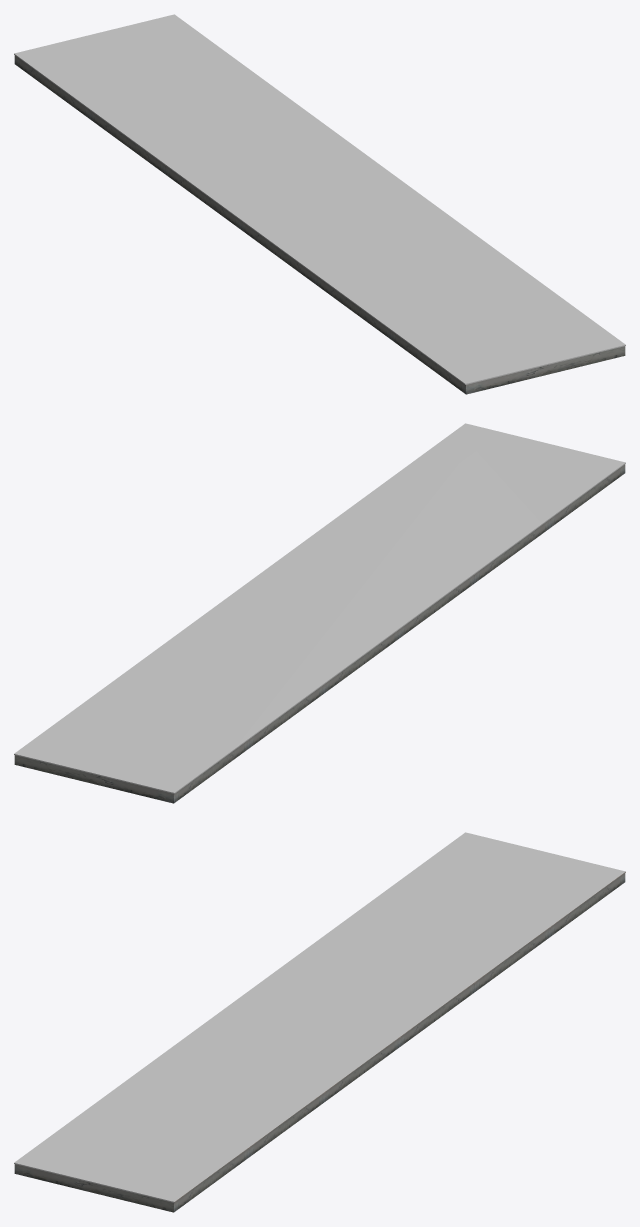
The model's file is sea_railwat station_02.fbx.
The picture shows the model from 3 angles, top to bottom: view 1: azimuth 30°, elevation 25°; view 2: azimuth 150°, elevation 25°; view 3: azimuth 330°, elevation 25°; orthographic projection.
Visible parts, largest first — view 1: polySurface536; view 2: polySurface536; view 3: polySurface536.
Boxes of the visible parts, bbox=[...] form: polySurface536: bbox=[14, 14, 625, 394]; polySurface536: bbox=[14, 423, 625, 803]; polySurface536: bbox=[14, 832, 625, 1212].
Size of the model in its own units: 1941 by 125 by 9456.
